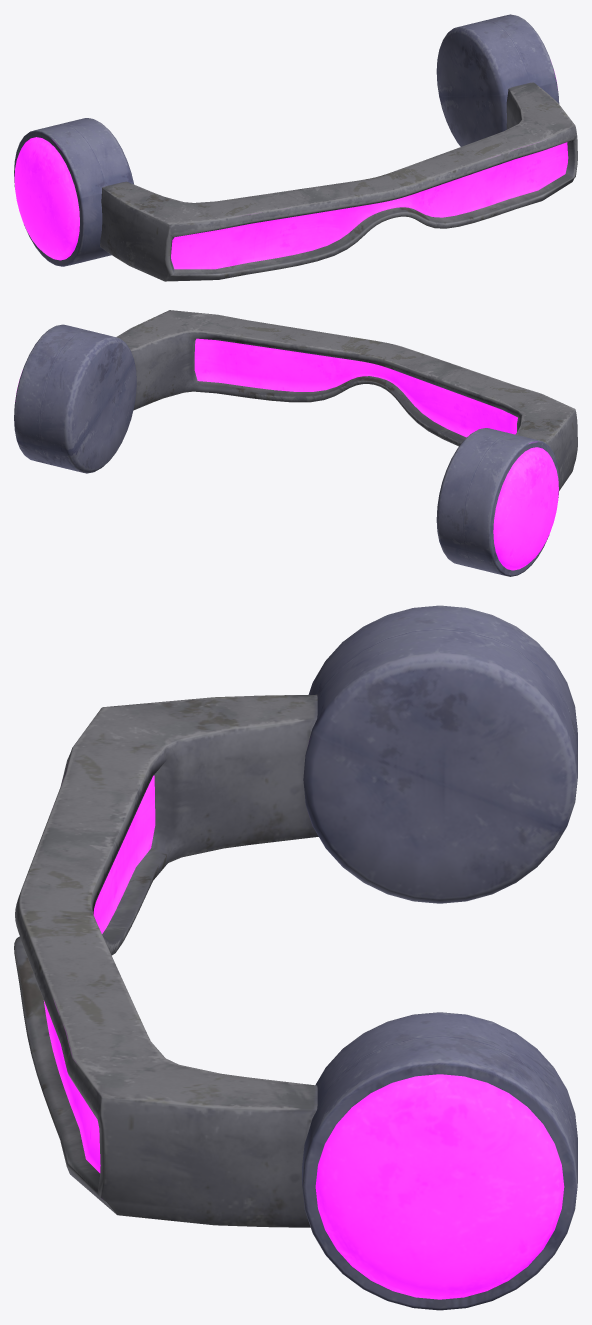
File: glasses-cyberpunk-nebulavisors-01.glb
3 views of the same model, one above another, from view 1: azimuth 30°, elevation 25°; view 2: azimuth 150°, elevation 25°; view 3: azimuth 270°, elevation 25° (orthographic). The views are drawn at different scales.
Visible parts, largest first — view 1: Wolf3D_Glasses.001; view 2: Wolf3D_Glasses.001; view 3: Wolf3D_Glasses.001.
Boxes of the visible parts, box(x1,y1,x2,y2) form: Wolf3D_Glasses.001: box(14, 14, 577, 281); Wolf3D_Glasses.001: box(14, 310, 577, 576); Wolf3D_Glasses.001: box(14, 605, 577, 1310).
Size of the model in its own units: 0.1985 by 0.048 by 0.0981.
1 material, 1 textured.
